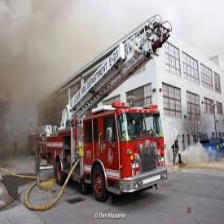smoke: (1, 1, 67, 163)
